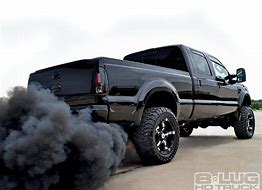smoke: (1, 103, 125, 190)
